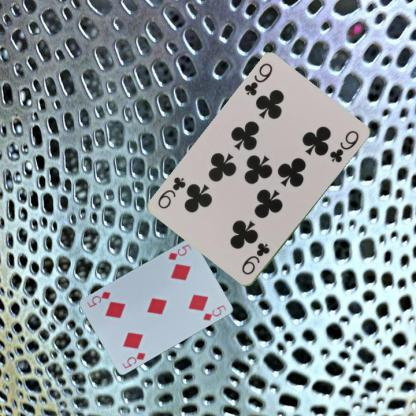5d: (119, 350, 146, 370), (166, 242, 193, 261)
9c: (238, 240, 272, 277), (241, 60, 274, 98)
